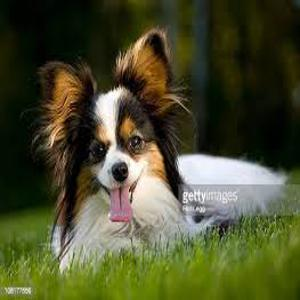yell: (37, 27, 285, 264)
